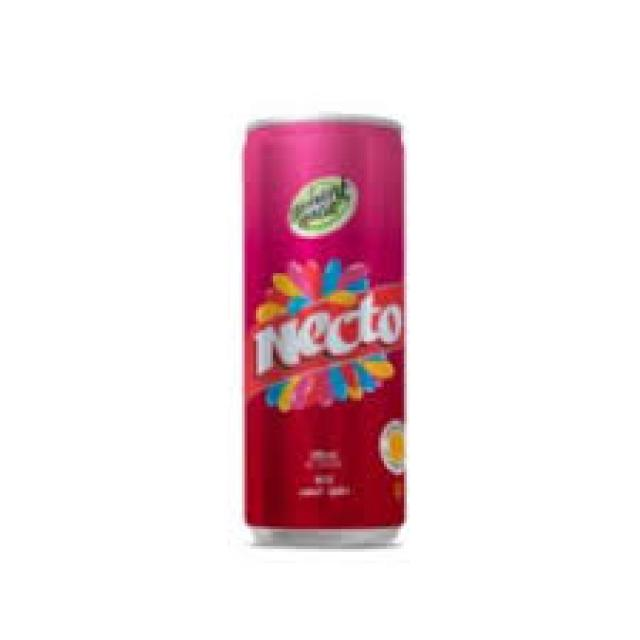Cans: (233, 102, 418, 552)
